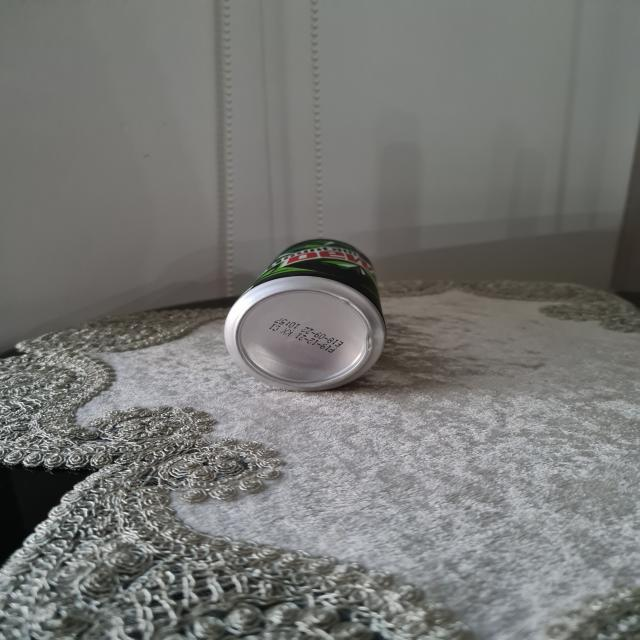can: (225, 235, 386, 394)
